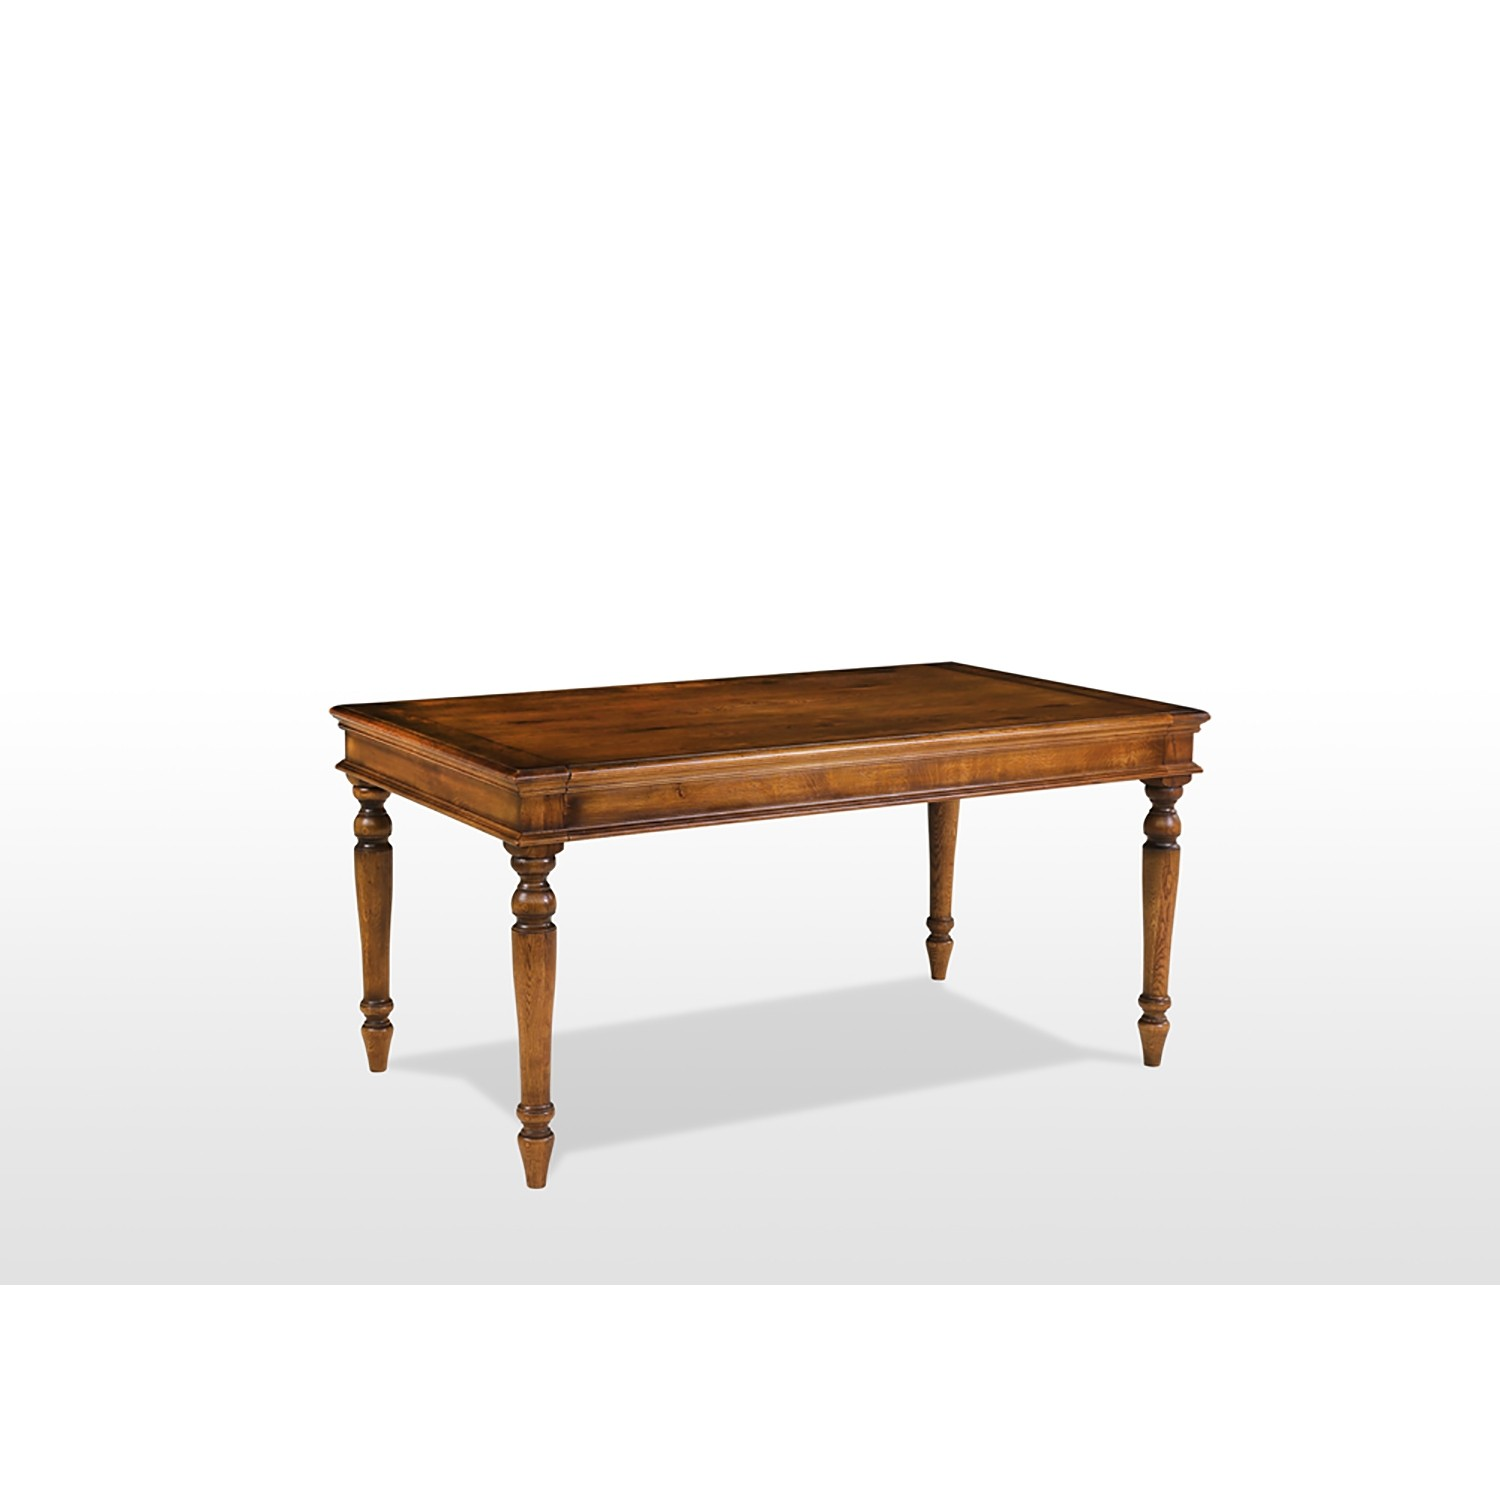meja: (320, 648, 1209, 1185)
